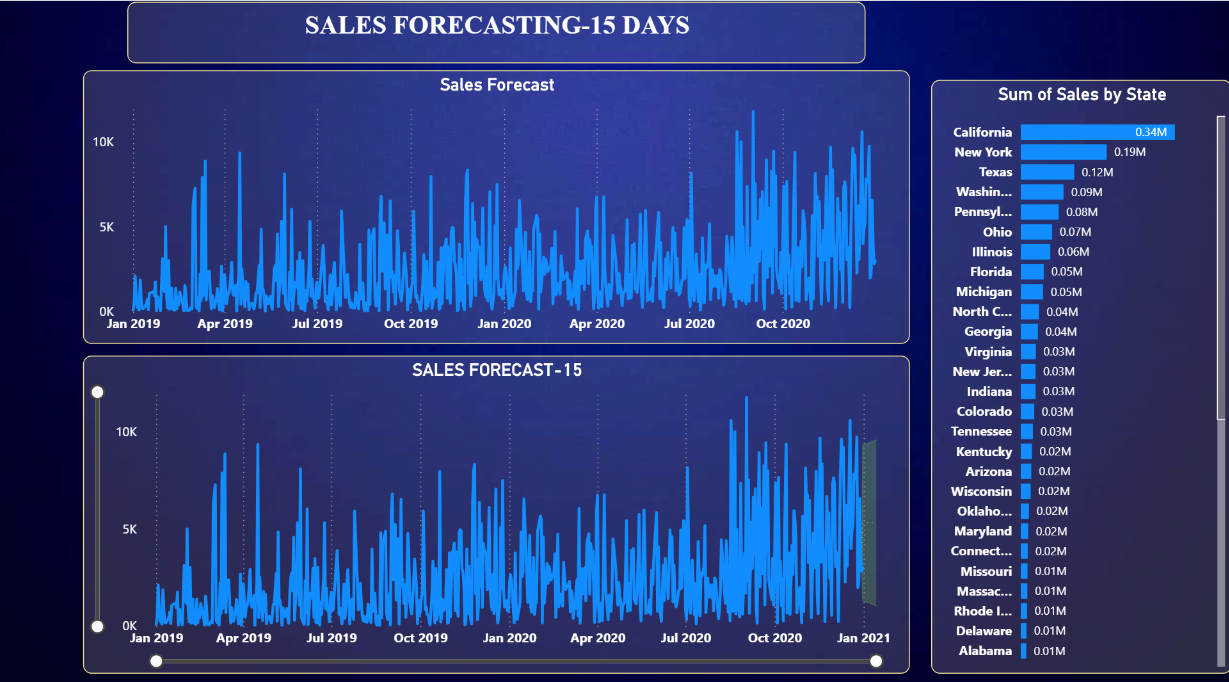

The page's visual inventory and layout, read from the dashboard file:
{"tool":"powerbi","page":{"name":"Page 2","canvas":[1280,720],"ordinal":1},"visuals":[{"type":"lineChart","title":"SALES FORECAST-15","fields":{"Y":["Sum(SuperStore_Sales_Dataset.Sales)"],"Category":["SuperStore_Sales_Dataset.Order Date"]},"box":[88.1,378.8,857.8,330.6],"z":0},{"type":"lineChart","title":"Sales Forecast ","fields":{"Y":["Sum(SuperStore_Sales_Dataset.Sales)"],"Category":["SuperStore_Sales_Dataset.Order Date"]},"box":[88.1,83.2,857.8,283.5],"z":1000},{"type":"clusteredBarChart","fields":{"Category":["SuperStore_Sales_Dataset.State"],"Y":["Sum(SuperStore_Sales_Dataset.Sales)"]},"box":[967.6,92.9,312.5,616.5],"z":2000},{"type":"textbox","box":[133.9,12.1,766.1,63.9],"z":3000}]}

Visuals, with their boxes in screenshot pixels (x1, y1, x2, y2), scaled from the page's 1280x720 canvas onto the 1229x682 screenshot:
"SALES FORECAST-15" lineChart: pyautogui.locateOnScreen(85, 359, 908, 672)
"Sales Forecast " lineChart: pyautogui.locateOnScreen(85, 79, 908, 347)
clusteredBarChart - SuperStore_Sales_Dataset.State x Sum(SuperStore_Sales_Dataset.Sales): pyautogui.locateOnScreen(929, 88, 1228, 672)
textbox: pyautogui.locateOnScreen(129, 11, 864, 72)
